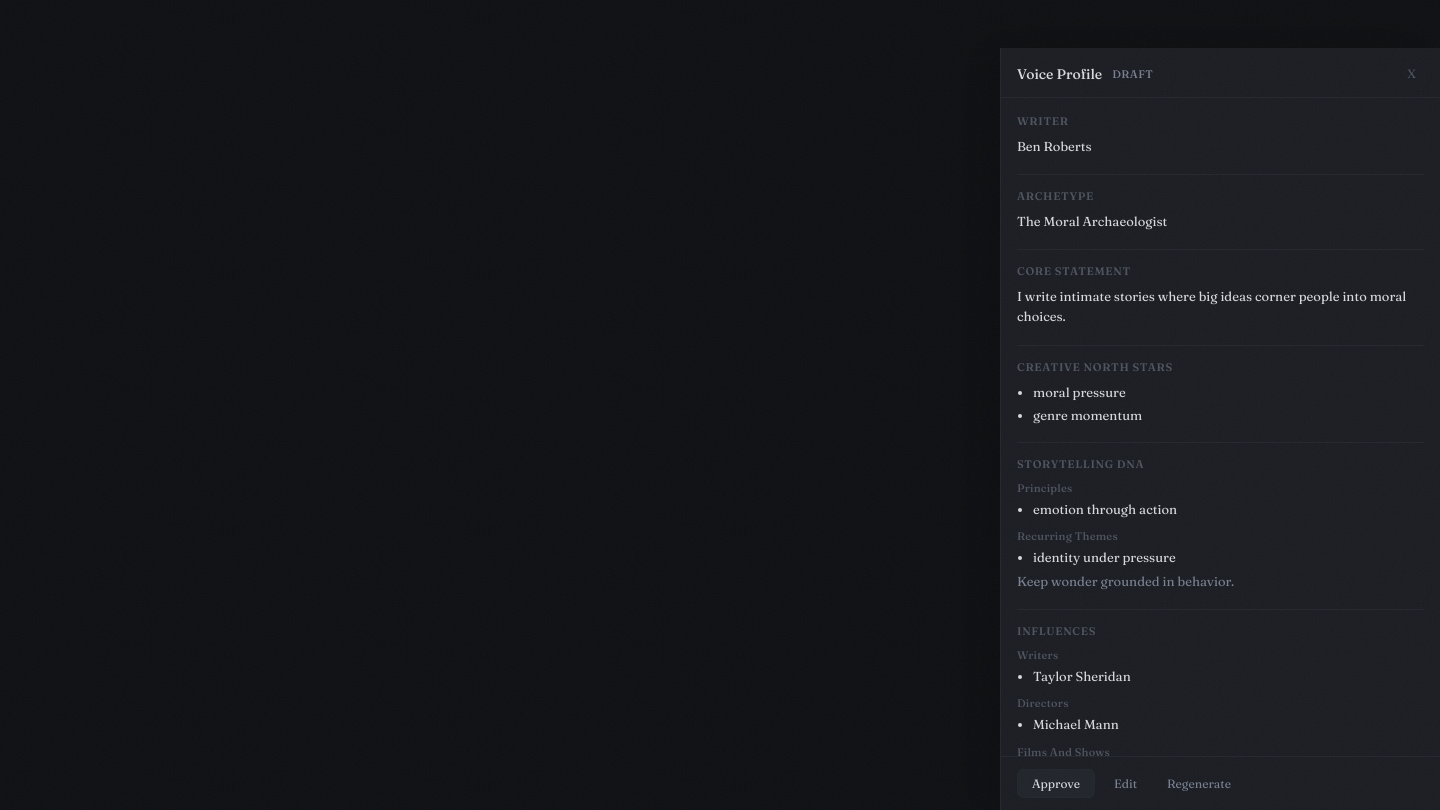
Test: VoiceProfileDrawer — synthesis and review › Approve sets status to complete and enters view mode
Step 1. Click the button "Approve" → (1056, 784), box [1017, 769, 1095, 798]
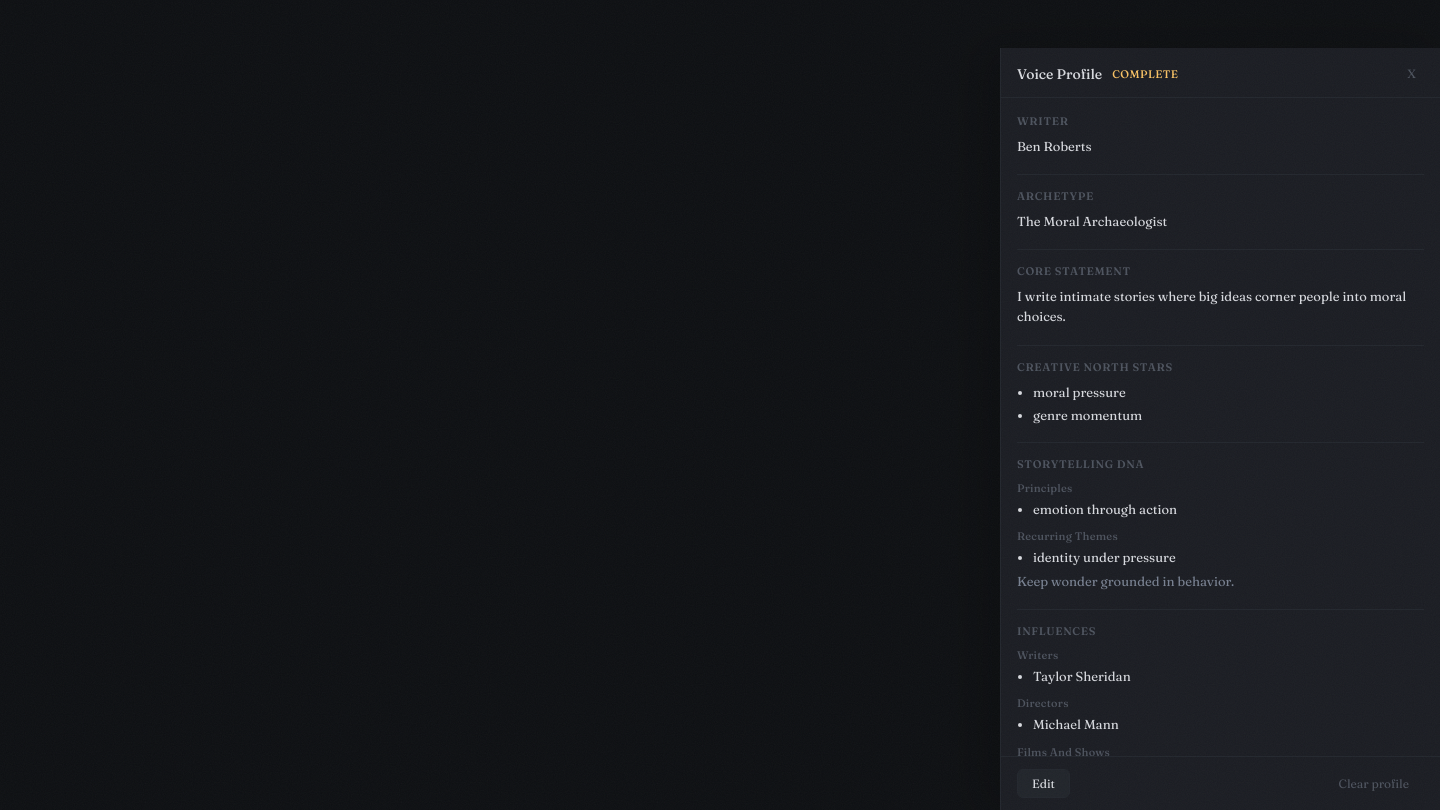
Check: the button "Edit" is shown, box [1017, 769, 1070, 798]
Check: the text "Complete" is shown, box [1112, 66, 1178, 80]
Check: the button "Approve" is gone
